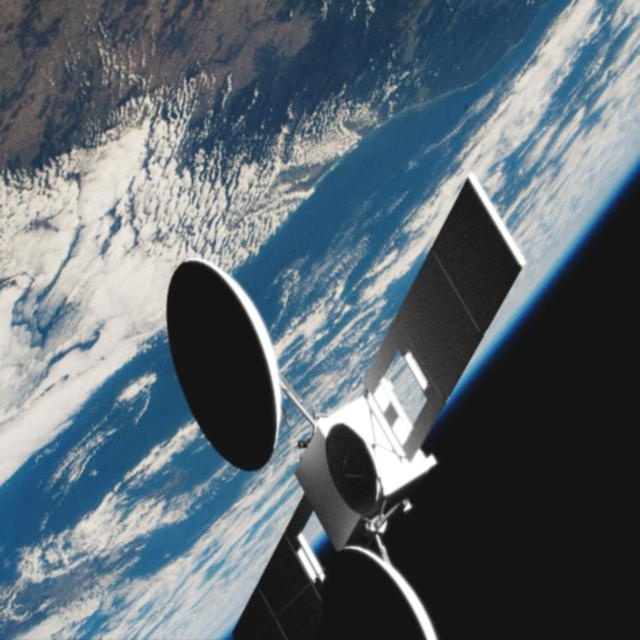satellite: (113, 168, 530, 640)
